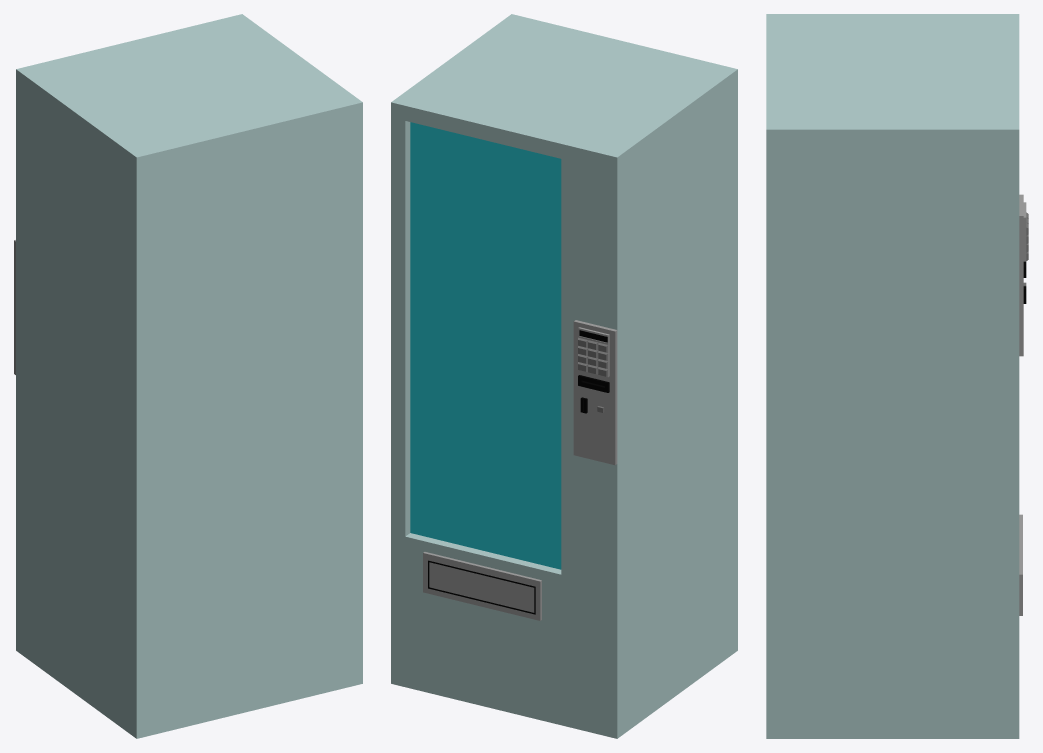
Rendered from VendingMachine.fbx.
The picture shows the model from 3 angles, left to right: view 1: azimuth 30°, elevation 25°; view 2: azimuth 150°, elevation 25°; view 3: azimuth 270°, elevation 25°; orthographic projection. The views are drawn at different scales.
Parts seen in each view (by area): view 1: Cube; view 2: Cube; view 3: Cube.
Part boxes in pixels (x1,y1,x2,y2): Cube: [14, 14, 362, 738]; Cube: [391, 14, 737, 738]; Cube: [766, 14, 1028, 738].
Bounding box in the file's own units: 0.79 × 0.7566 × 1.94.
